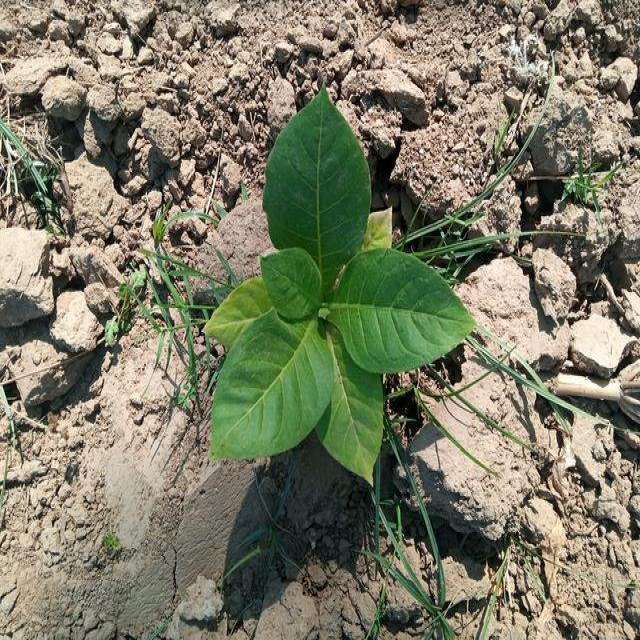crop: (200, 79, 476, 490)
